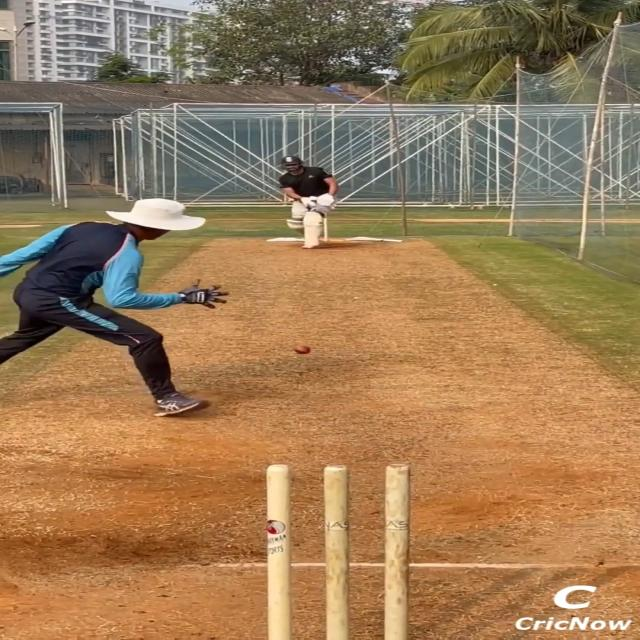ball: (294, 345, 312, 355)
stump: (261, 461, 416, 640)
